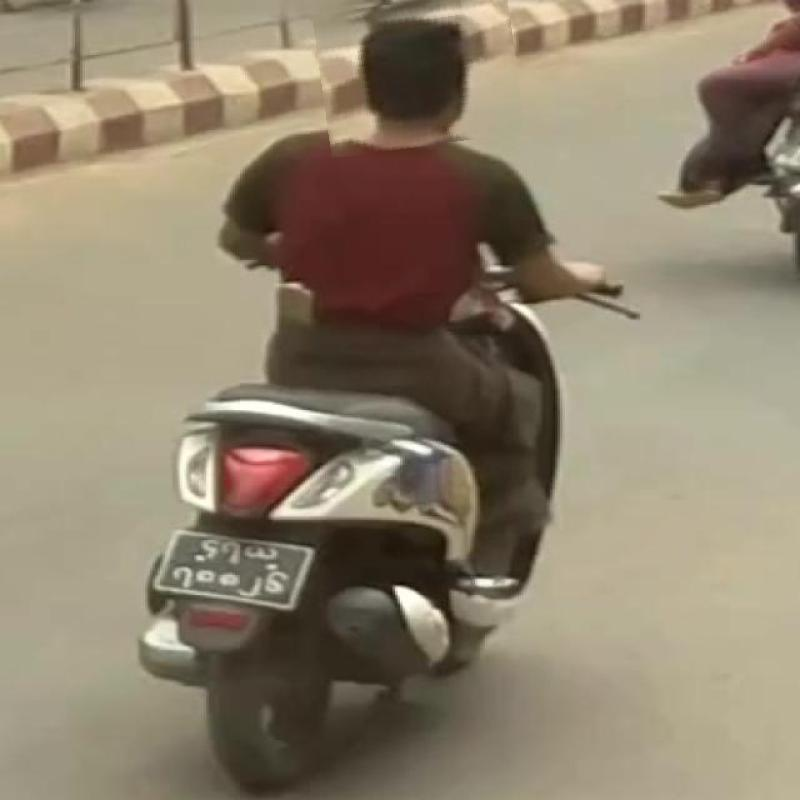nohelmet: (316, 0, 521, 151)
